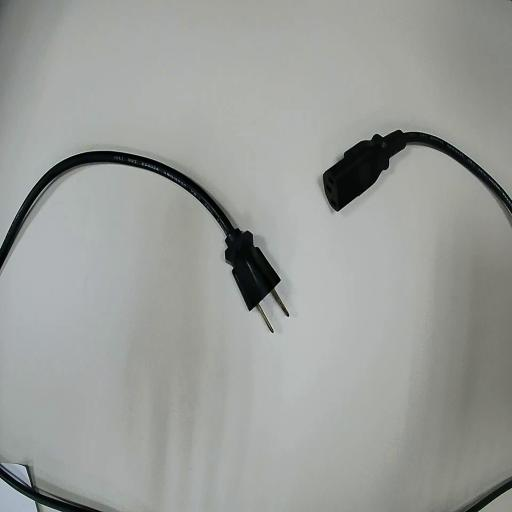wire: (0, 152, 278, 308), (324, 131, 511, 211)
